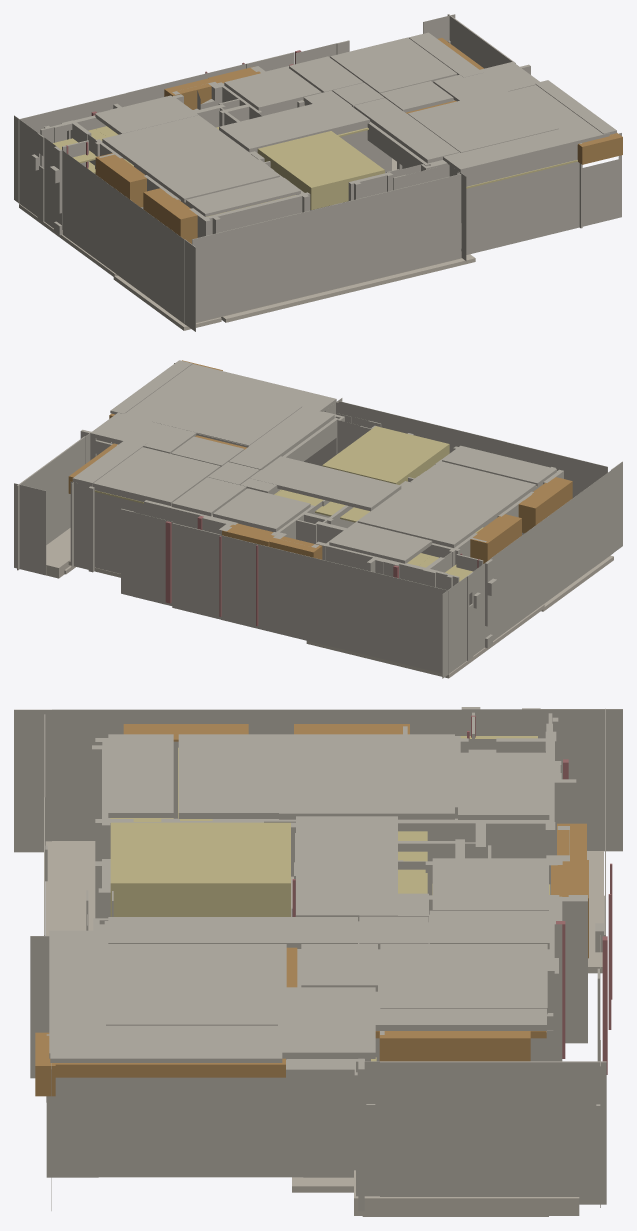
File: Soulace_L0_ground_parts.dae
3 renders of one model, top to bottom at view 1: azimuth 30°, elevation 25°; view 2: azimuth 150°, elevation 25°; view 3: azimuth 270°, elevation 25°, orthographic. The views are drawn at different scales.
Parts seen in each view (by area): view 1: wall_09, wall_17, wall_08, dropped_ceiling_16, dropped_ceiling_02_02, dropped_ceiling_00_01, dropped_ceiling_01_02, dropped_ceiling_05_01, dropped_ceiling_03_01, wall_04, dropped_ceiling_04_01, dropped_ceiling_09_01 (+28 smaller); view 2: wall_04, wall_17, dropped_ceiling_00_01, dropped_ceiling_02_02, wall_09, dropped_ceiling_16, dropped_ceiling_03_01, dropped_ceiling_05_01, dropped_ceiling_01_02, wall_23, wall_00, wall_21 (+26 smaller); view 3: wall_21, wall_32, wall_17, dropped_ceiling_16, dropped_ceiling_00_01, dropped_ceiling_02_02, dropped_ceiling_03_01, dropped_ceiling_01_02, dropped_ceiling_05_01, dropped_ceiling_04_01, dropped_ceiling_06_02, dropped_ceiling_07_01 (+35 smaller).
Part boxes in pixels (<box>): wall_09: <box>192,174,461,322</box>; wall_17: <box>14,115,195,331</box>; wall_08: <box>457,133,621,254</box>; dropped_ceiling_16: <box>257,131,384,209</box>; dropped_ceiling_02_02: <box>407,89,558,152</box>; dropped_ceiling_00_01: <box>102,115,250,178</box>; dropped_ceiling_01_02: <box>407,85,609,172</box>; dropped_ceiling_05_01: <box>219,97,369,152</box>; dropped_ceiling_03_01: <box>330,37,457,93</box>; wall_04: <box>18,40,349,203</box>; dropped_ceiling_04_01: <box>152,153,279,202</box>; dropped_ceiling_09_01: <box>224,67,321,110</box>; wall_04: <box>121,508,448,674</box>; wall_17: <box>442,461,622,678</box>; dropped_ceiling_00_01: <box>357,483,505,547</box>; dropped_ceiling_02_02: <box>151,382,302,445</box>; wall_09: <box>338,401,607,497</box>; dropped_ceiling_16: <box>322,426,449,484</box>; dropped_ceiling_03_01: <box>93,447,220,505</box>; dropped_ceiling_05_01: <box>250,456,401,511</box>; dropped_ceiling_01_02: <box>126,364,336,447</box>; wall_23: <box>70,481,145,573</box>; wall_00: <box>144,500,459,590</box>; wall_21: <box>17,433,90,570</box>; wall_21: <box>356,1061,606,1204</box>; wall_32: <box>46,1034,355,1177</box>; wall_17: <box>14,707,622,852</box>; dropped_ceiling_16: <box>110,822,290,916</box>; dropped_ceiling_00_01: <box>279,734,454,819</box>; dropped_ceiling_02_02: <box>106,944,285,1025</box>; dropped_ceiling_03_01: <box>380,944,547,1014</box>; dropped_ceiling_01_02: <box>49,930,286,1059</box>; dropped_ceiling_05_01: <box>296,816,397,921</box>; dropped_ceiling_04_01: <box>178,734,278,818</box>; dropped_ceiling_06_02: <box>278,987,375,1058</box>; dropped_ceiling_07_01: <box>458,752,549,819</box>.
Size of the model in its own units: 18.66 by 13.09 by 3.91.
